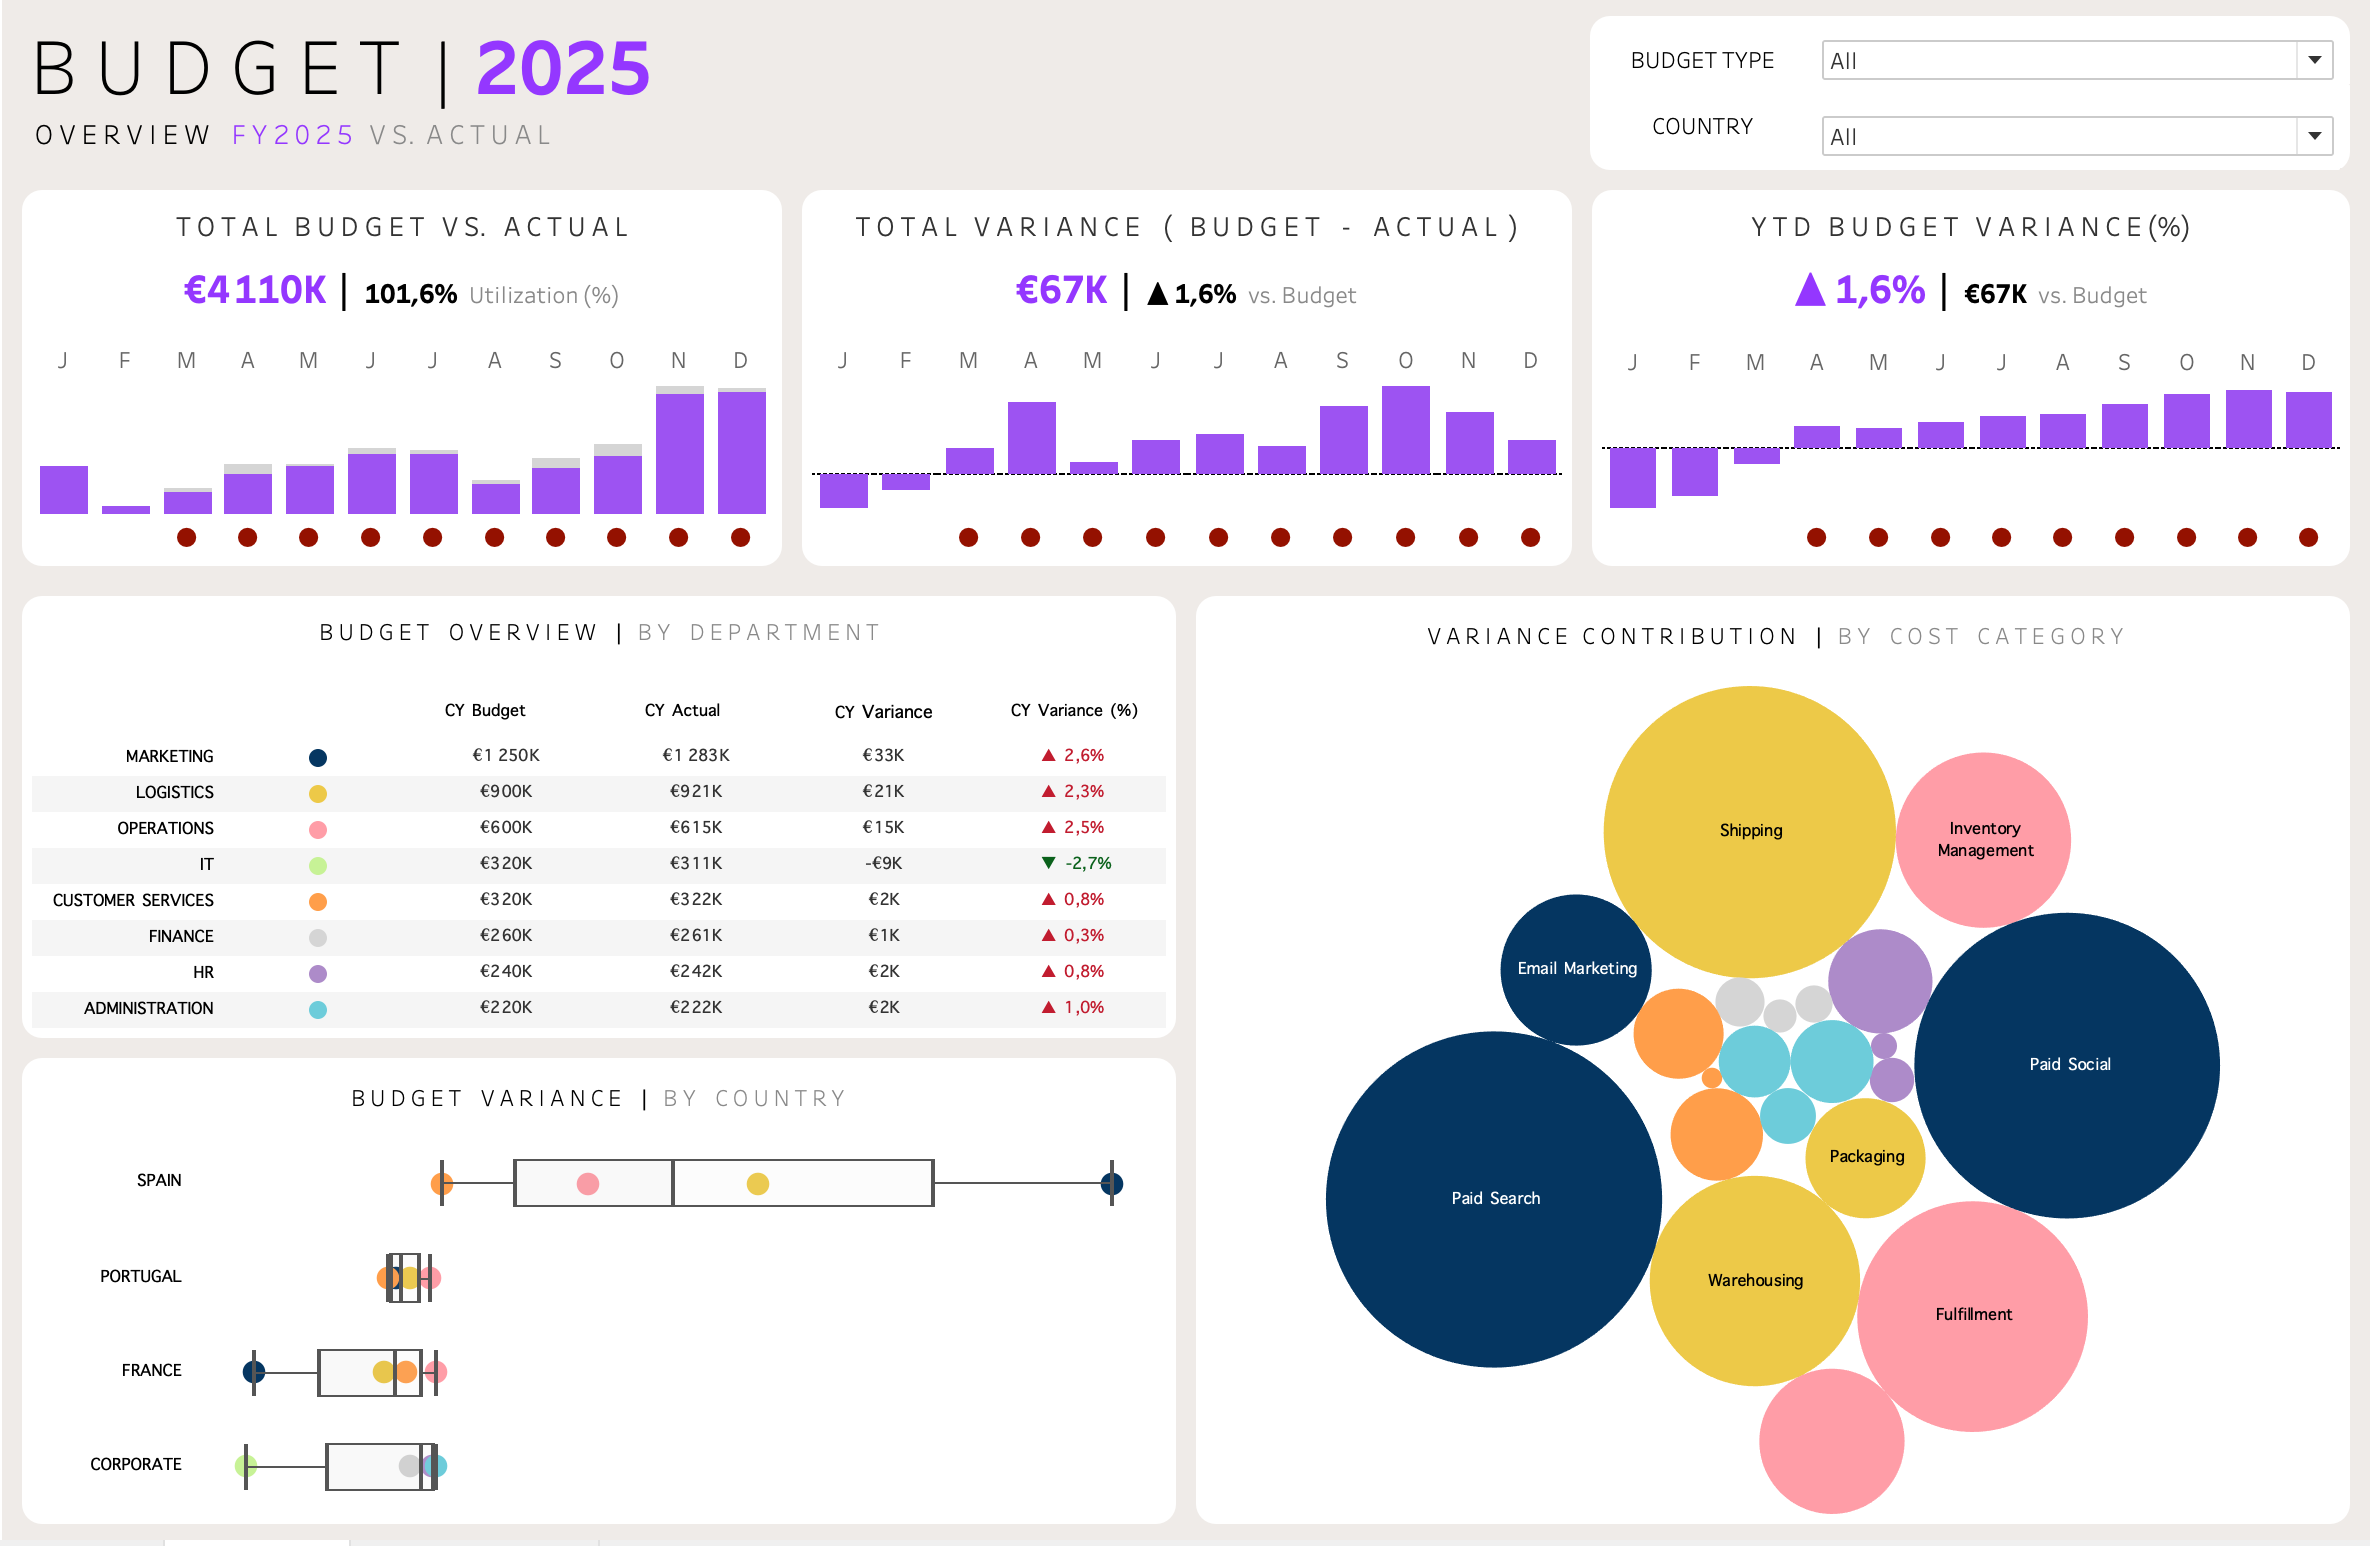

This screenshot's page, from the dashboard's own definition file:
{"tool":"tableau","page":{"name":"Budget DB","canvas":[1200,800],"ordinal":0},"visuals":[{"type":"text","box":[8,8,789,88.3]},{"type":"text","box":[797,8,118,43.6]},{"type":"parameter","param":"[Parameters].[Select Category (copy)_0046540160557056]","box":[914.9,8,277.1,44.2]},{"type":"text","box":[797,51.6,118,44.7]},{"type":"parameter","param":"[Parameters].[Parameter 1]","box":[914.9,52.2,277.1,44.2]},{"type":"worksheet","title":"KPI Budget","mark":"Bar","rows":["Calculation_0085775541895194","Calculation_0085775520124930"],"cols":["budget_month","Calculation_0050043770671104"],"box":[8,96,395,206]},{"type":"worksheet","title":"KPI Variance","mark":"Bar","rows":["CY Budget Amount (copy)_0085775520522244"],"cols":["budget_month","KPI Above Budget (copy)_0050043771592705"],"box":[403,96,395,206]},{"type":"worksheet","title":"Cumulative Variance %","mark":"Bar","rows":["Calculation_0046330820726798"],"cols":["budget_month","KPI Variance < 0 (copy)_0050043771838466"],"box":[798,96,394,206]},{"type":"text","box":[8,302.1,592,45]},{"type":"text","box":[600,302.1,592,50.3]},{"type":"blank","box":[18,347.1,209,32]},{"type":"text","box":[227,347.1,100,32]},{"type":"text","box":[327,347.1,95,32]},{"type":"text","box":[422,347.1,88.5,32]},{"type":"text","box":[510.5,347.1,84.5,32]},{"type":"worksheet","title":"Bubble Chart","mark":"Circle","box":[600,352.5,592,439.5]},{"type":"worksheet","title":"Data Budget","mark":"Text","rows":["budget_type"],"cols":["Calculation_0039803956469773","Calculation_0039803955560453","Calculation_0039803955929095","Calculation_0039803956060169","Calculation_0039803956228107"],"box":[8,379.1,592,161.9]},{"type":"text","box":[8,541,592,39]},{"type":"worksheet","title":"Box Plot","mark":"Circle","rows":["country"],"cols":["CY Budget Amount (copy)_0085775520522244"],"box":[8,580,592,212]}]}

Visuals, with their boxes in screenshot pixels (x1, y1, x2, y2), scaled from the page's 1200x800 canvas onto the 2370x1546 screenshot:
text: {"x1": 16, "y1": 15, "x2": 1574, "y2": 186}
text: {"x1": 1574, "y1": 15, "x2": 1807, "y2": 100}
parameter: {"x1": 1807, "y1": 15, "x2": 2354, "y2": 101}
text: {"x1": 1574, "y1": 100, "x2": 1807, "y2": 186}
parameter: {"x1": 1807, "y1": 101, "x2": 2354, "y2": 186}
"KPI Budget" worksheet (Bar marks): {"x1": 16, "y1": 186, "x2": 796, "y2": 584}
"KPI Variance" worksheet (Bar marks): {"x1": 796, "y1": 186, "x2": 1576, "y2": 584}
"Cumulative Variance %" worksheet (Bar marks): {"x1": 1576, "y1": 186, "x2": 2354, "y2": 584}
text: {"x1": 16, "y1": 584, "x2": 1185, "y2": 671}
text: {"x1": 1185, "y1": 584, "x2": 2354, "y2": 681}
blank: {"x1": 36, "y1": 671, "x2": 448, "y2": 733}
text: {"x1": 448, "y1": 671, "x2": 646, "y2": 733}
text: {"x1": 646, "y1": 671, "x2": 833, "y2": 733}
text: {"x1": 833, "y1": 671, "x2": 1008, "y2": 733}
text: {"x1": 1008, "y1": 671, "x2": 1175, "y2": 733}
"Bubble Chart" worksheet (Circle marks): {"x1": 1185, "y1": 681, "x2": 2354, "y2": 1531}
"Data Budget" worksheet (Text marks): {"x1": 16, "y1": 733, "x2": 1185, "y2": 1045}
text: {"x1": 16, "y1": 1045, "x2": 1185, "y2": 1121}
"Box Plot" worksheet (Circle marks): {"x1": 16, "y1": 1121, "x2": 1185, "y2": 1531}
